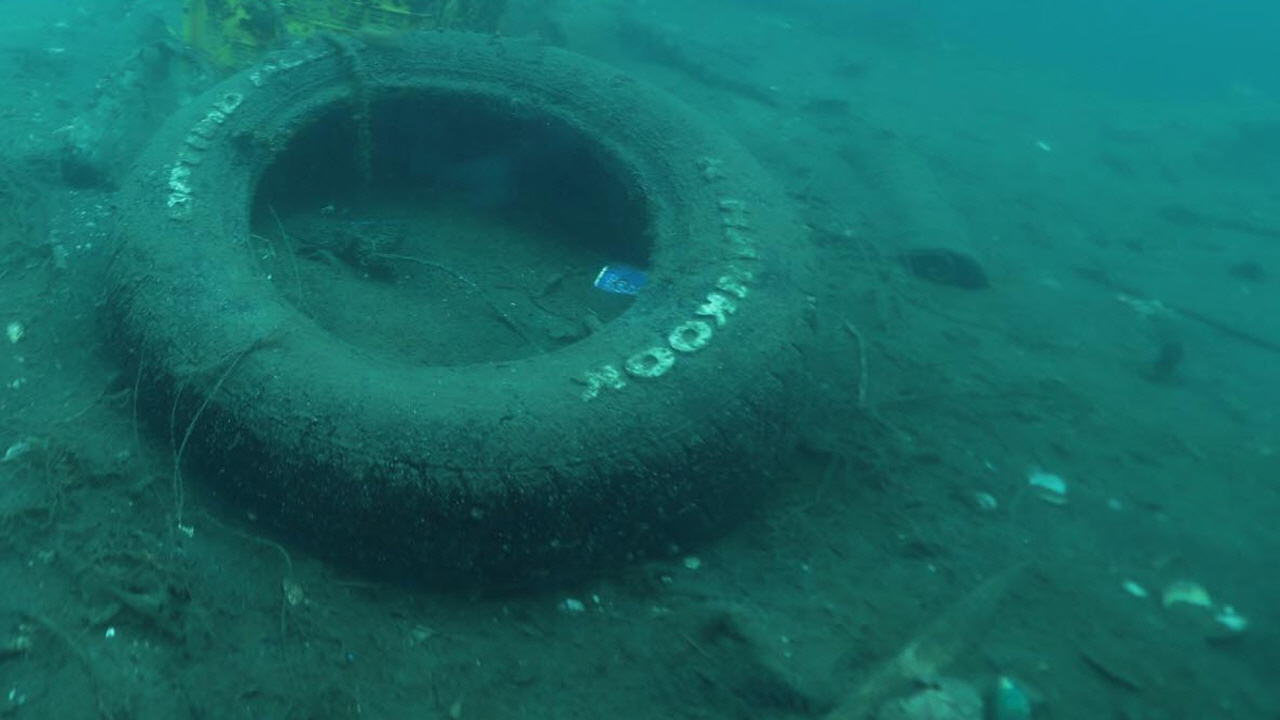tire: (103, 31, 824, 579)
